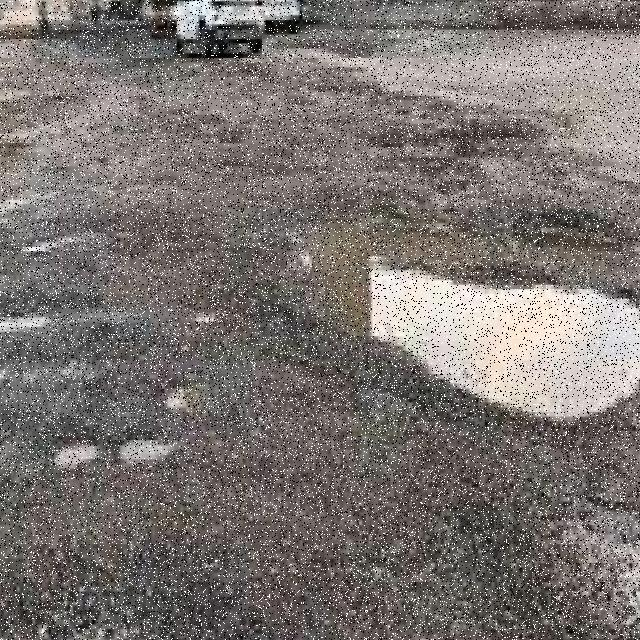pothole: (332, 232, 640, 445), (556, 486, 640, 640), (0, 591, 217, 640), (35, 418, 105, 481), (110, 424, 183, 476), (0, 305, 63, 339), (153, 377, 198, 419)
